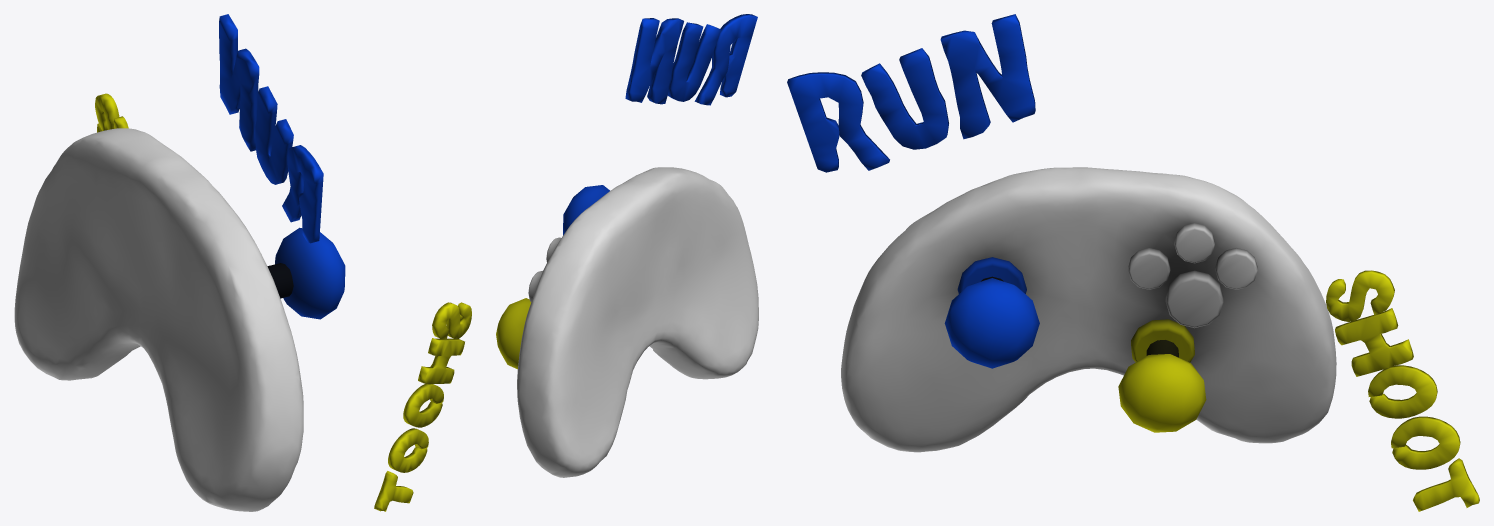
The model's file is UI_Controller.fbx.
3 views of the same model, side by side, from view 1: azimuth 30°, elevation 25°; view 2: azimuth 150°, elevation 25°; view 3: azimuth 270°, elevation 25° (orthographic). The views are drawn at different scales.
Visible parts, largest first — view 1: UI_Controller; view 2: UI_Controller; view 3: UI_Controller.
Part boxes in pixels (x1,y1,x2,y2): UI_Controller: [14, 14, 345, 511]; UI_Controller: [374, 14, 758, 511]; UI_Controller: [787, 14, 1479, 511].
Bounding box in the file's own units: 0.6373 × 1.58 × 2.19.
